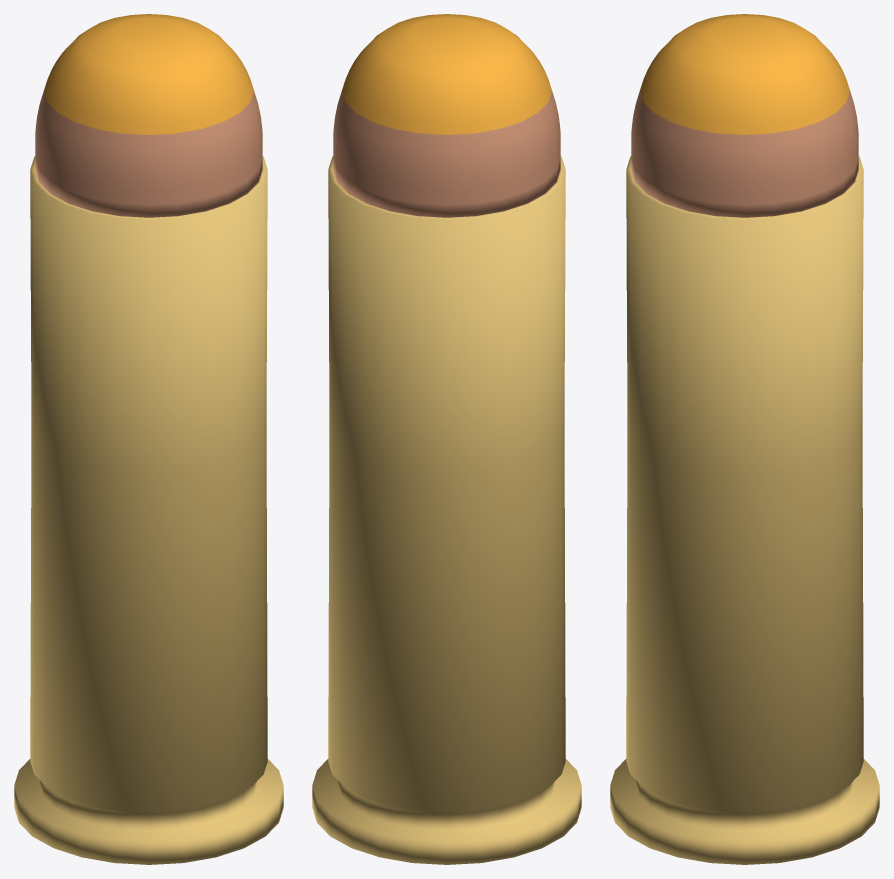
3 views of the same model, side by side, from view 1: azimuth 30°, elevation 25°; view 2: azimuth 150°, elevation 25°; view 3: azimuth 270°, elevation 25° (orthographic).
Parts seen in each view (by area): view 1: vaina, punta, bala_cuerpo; view 2: vaina, punta, bala_cuerpo; view 3: vaina, punta, bala_cuerpo.
Part boxes in pixels (box(x1,y1,x2,y2)): vaina: box(14, 156, 283, 864); punta: box(44, 14, 253, 134); bala_cuerpo: box(35, 91, 262, 217); vaina: box(312, 156, 581, 864); punta: box(342, 14, 551, 134); bala_cuerpo: box(333, 91, 560, 217); vaina: box(610, 156, 879, 864); punta: box(640, 14, 849, 134); bala_cuerpo: box(631, 91, 858, 217).
Bounding box in the file's own units: 0.0136 × 0.0432 × 0.0136.
